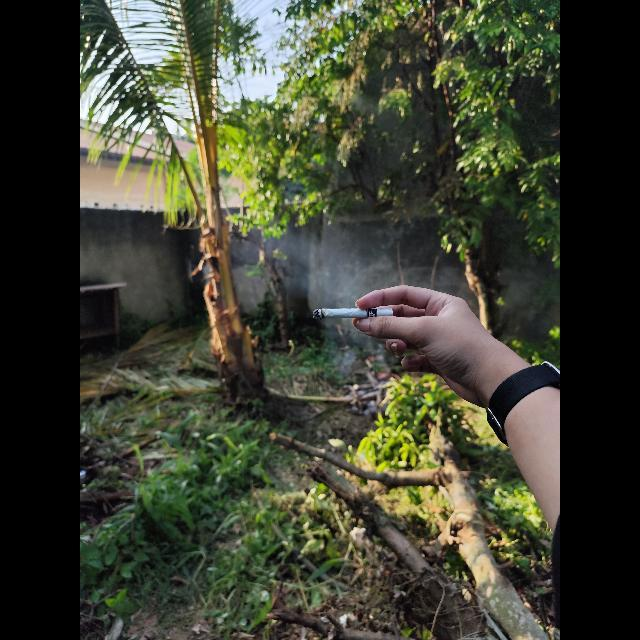rokok: (310, 305, 400, 325)
